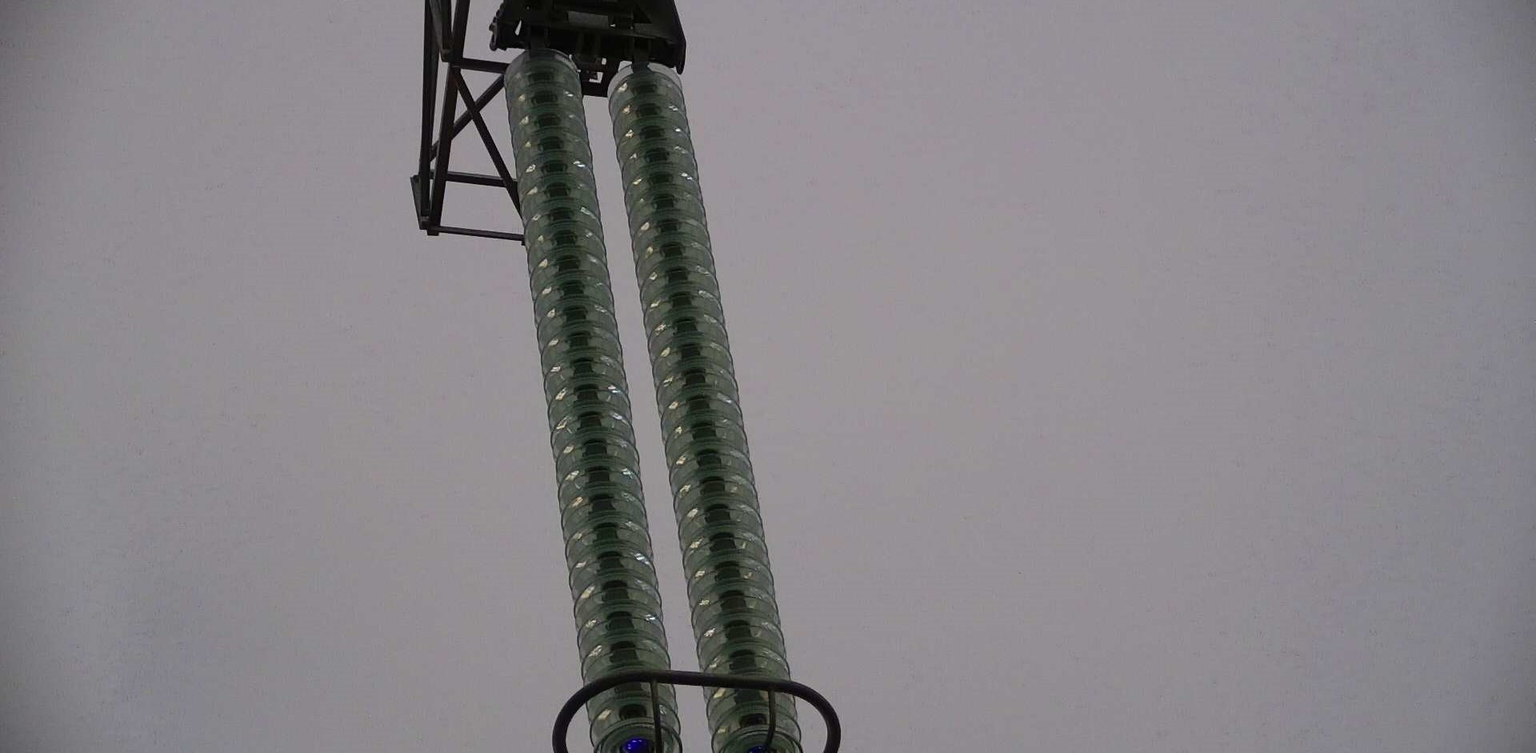绝缘子污闪: (623, 738, 646, 753), (748, 746, 762, 753)
